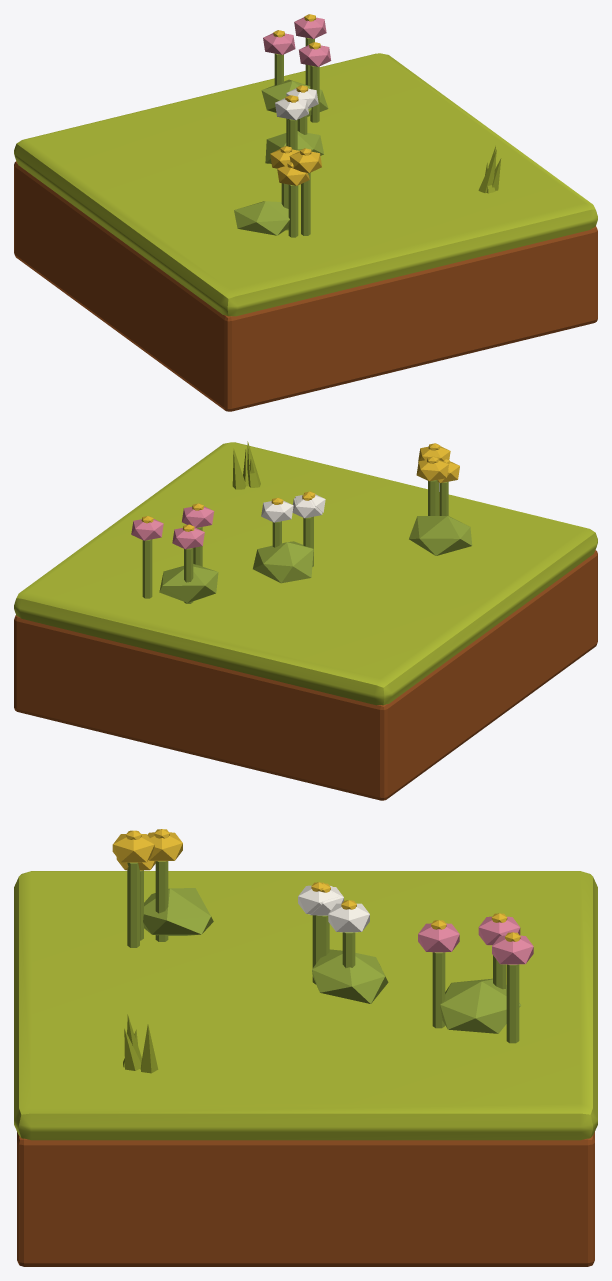
Rendered from tile_grass_flower.glb.
3 views of the same model, one above another, from view 1: azimuth 30°, elevation 25°; view 2: azimuth 150°, elevation 25°; view 3: azimuth 270°, elevation 25° (orthographic). The views are drawn at different scales.
Parts seen in each view (by area): view 1: gf_cap, gf_body, gf2_leafmound, gf1_leafmound, gf0_leafmound, gf2_stem2, gf0_head2, gf0_head0, gf0_head1, gf1_head0, gf2_stem1, gf2_head1; view 2: gf_cap, gf_body, gf1_leafmound, gf2_leafmound, gf0_leafmound, gf0_stem1, gf0_head2, gf1_head2, gf0_head1, gf2_head0, gf0_head0; view 3: gf_cap, gf_body, gf0_leafmound, gf1_leafmound, gf2_leafmound, gf0_stem1, gf2_stem1, gf1_head2, gf0_head1, gf0_head0, gf0_stem0, gf2_head1 (+4 smaller).
Part boxes in pixels (left/top/right/bottom): gf_cap: left=14, top=53, right=597, bottom=316; gf_body: left=14, top=161, right=597, bottom=411; gf2_leafmound: left=234, top=201, right=289, bottom=235; gf1_leafmound: left=265, top=131, right=323, bottom=163; gf0_leafmound: left=261, top=79, right=328, bottom=116; gf2_stem2: left=288, top=184, right=298, bottom=237; gf0_head2: left=263, top=33, right=295, bottom=54; gf0_head0: left=299, top=45, right=331, bottom=66; gf0_head1: left=294, top=17, right=326, bottom=38; gf1_head0: left=276, top=98, right=308, bottom=120; gf2_stem1: left=301, top=173, right=310, bottom=235; gf2_head1: left=289, top=151, right=321, bottom=173; gf_cap: left=14, top=442, right=597, bottom=705; gf_body: left=14, top=550, right=597, bottom=800; gf1_leafmound: left=253, top=541, right=313, bottom=583; gf2_leafmound: left=409, top=516, right=472, bottom=555; gf0_leafmound: left=159, top=564, right=218, bottom=602; gf0_stem1: left=142, top=539, right=152, bottom=598; gf0_head2: left=172, top=527, right=204, bottom=549; gf1_head2: left=261, top=500, right=293, bottom=522; gf0_head1: left=131, top=519, right=163, bottom=540; gf2_head0: left=416, top=460, right=448, bottom=481; gf0_head0: left=182, top=506, right=214, bottom=527; gf_cap: left=14, top=871, right=597, bottom=1140; gf_body: left=17, top=1132, right=594, bottom=1266; gf0_leafmound: left=440, top=978, right=521, bottom=1033; gf1_leafmound: left=312, top=949, right=388, bottom=1003; gf2_leafmound: left=143, top=888, right=213, bottom=935; gf0_stem1: left=506, top=964, right=519, bottom=1043; gf2_stem1: left=127, top=862, right=139, bottom=947; gf1_head2: left=328, top=903, right=369, bottom=932; gf0_head1: left=492, top=935, right=533, bottom=964; gf0_head0: left=418, top=923, right=459, bottom=952; gf0_stem0: left=432, top=952, right=445, bottom=1028; gf2_head1: left=112, top=834, right=154, bottom=862.
Bounding box in the file's own units: 2.02 × 1.05 × 2.02.
